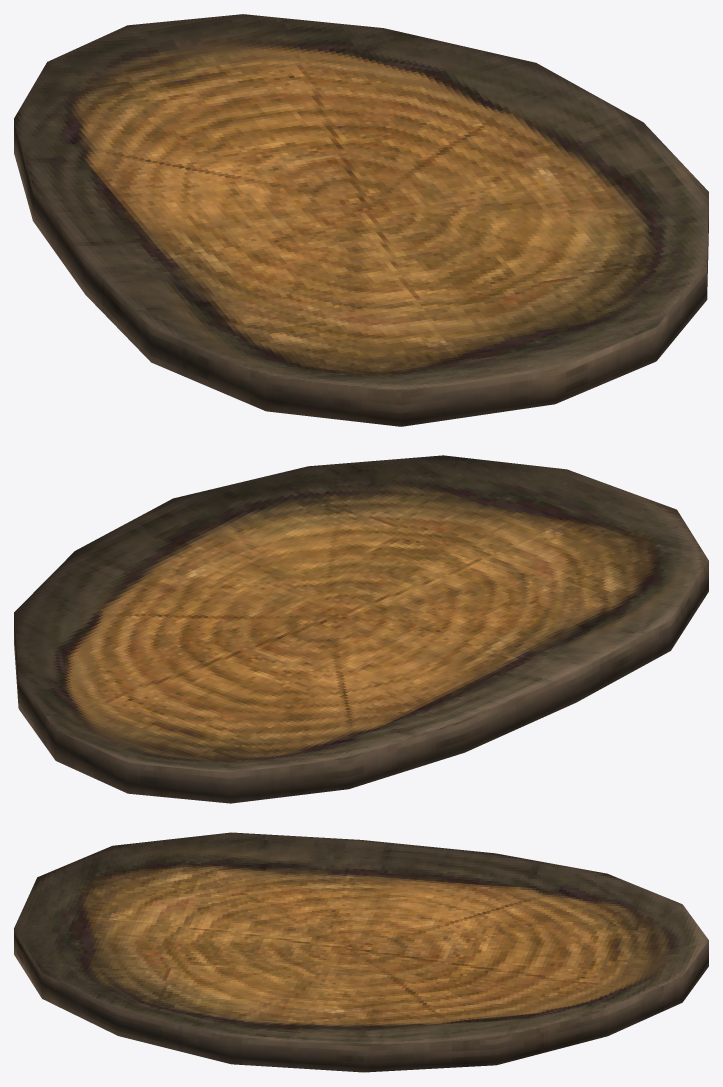
The model's file is platform.fbx.
The picture shows the model from 3 angles, top to bottom: view 1: azimuth 30°, elevation 25°; view 2: azimuth 150°, elevation 25°; view 3: azimuth 270°, elevation 25°; orthographic projection. The views are drawn at different scales.
Visible parts, largest first — view 1: Platform; view 2: Platform; view 3: Platform.
Part boxes in pixels (<box>): Platform: <box>14,14,708,426</box>; Platform: <box>14,455,708,803</box>; Platform: <box>14,832,708,1072</box>.
Bounding box in the file's own units: 1245 × 70.93 × 1710.
